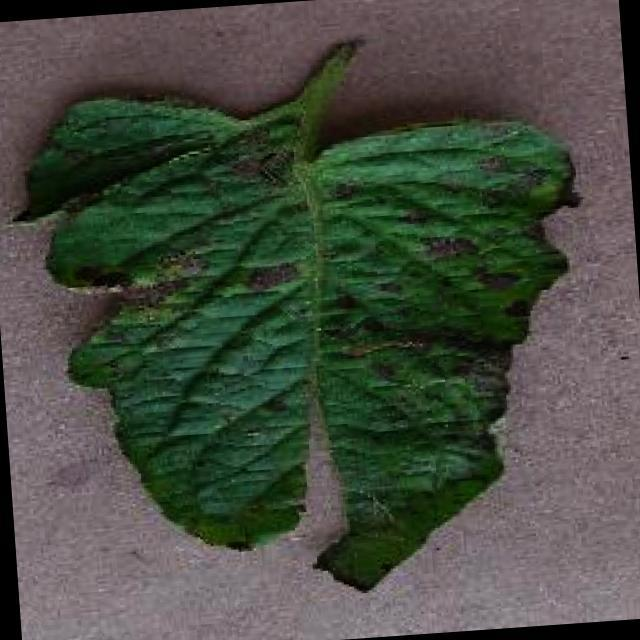Tomato Early blight leaf: (5, 54, 603, 614)
